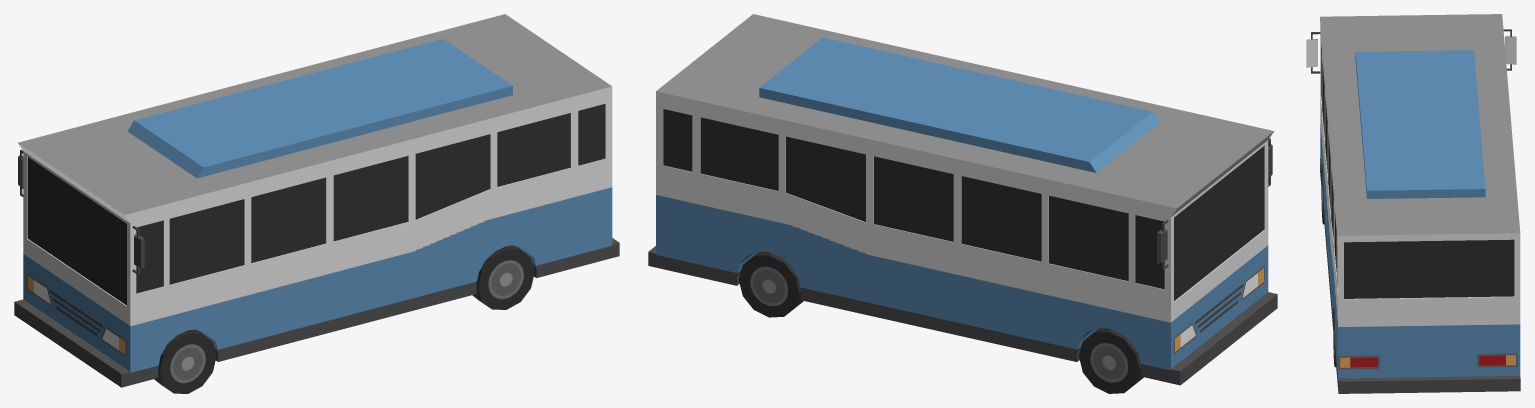
Rendered from bus_1.glb.
3 renders of one model, left to right at view 1: azimuth 30°, elevation 25°; view 2: azimuth 150°, elevation 25°; view 3: azimuth 270°, elevation 25°, orthographic. The views are drawn at different scales.
Parts seen in each view (by area): view 1: Vehicle_Bus_color03.007; view 2: Vehicle_Bus_color03.007; view 3: Vehicle_Bus_color03.007.
Boxes of the visible parts, left/top/right/bottom form: Vehicle_Bus_color03.007: left=14, top=14, right=619, bottom=393; Vehicle_Bus_color03.007: left=648, top=14, right=1277, bottom=393; Vehicle_Bus_color03.007: left=1306, top=14, right=1520, bottom=393.
Bounding box in the file's own units: 9.41 × 3.58 × 3.76.
1 material, 1 textured.
